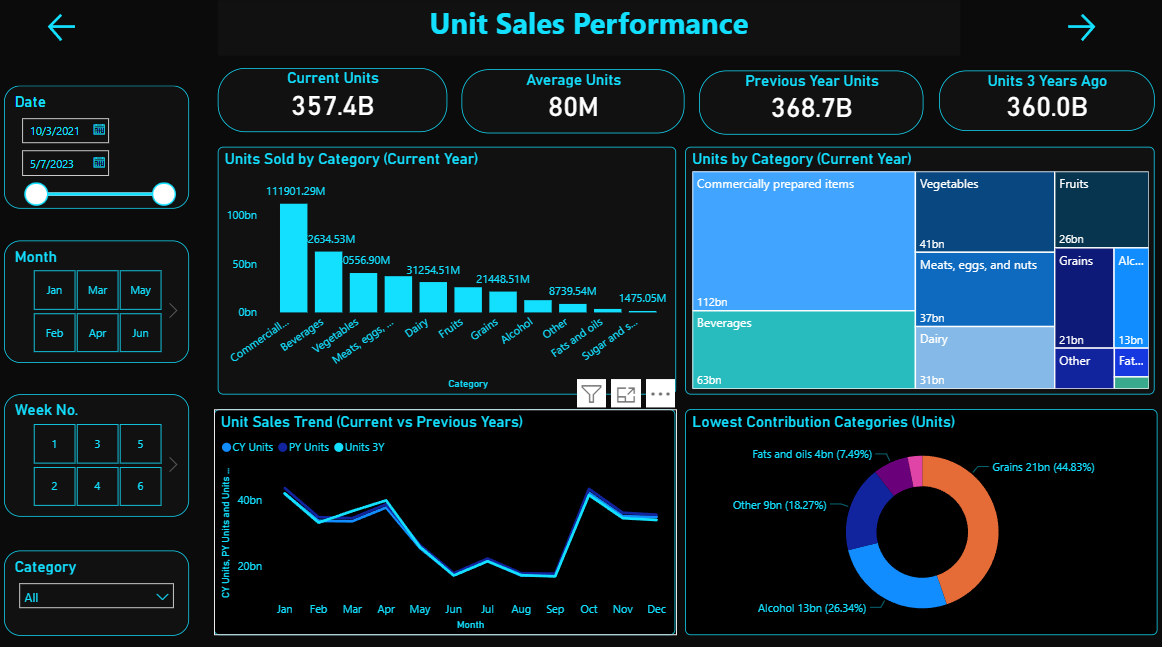

Layout of this report page (visuals, bound fields, positions):
{"tool":"powerbi","page":{"name":"Unit Performance","canvas":[1280,720],"ordinal":2},"visuals":[{"type":"card","title":"Units 3 Years Ago","fields":{"Values":["clean_data.Units 3Y Display"]},"box":[1031.7,79.6,236.7,66.7],"z":0},{"type":"treemap","title":"Units by Category (Current Year)","fields":{"Values":["clean_data.CY Units"],"Group":["clean_data.Category"]},"box":[753.3,163.3,515,271.7],"z":1000},{"type":"clusteredColumnChart","title":"Units Sold by Category (Current Year)","fields":{"Y":["clean_data.CY Units"],"Category":["clean_data.Category"]},"box":[240,163.3,503.3,271.7],"z":2000},{"type":"lineChart","title":"Unit Sales Trend (Current vs Previous Years)","fields":{"Category":["clean_data.Month"],"Y":["clean_data.CY Units","clean_data.PY Units","clean_data.Units 3Y"]},"box":[236.7,451.7,506.7,248.3],"z":3000},{"type":"donutChart","title":"Lowest Contribution Categories (Units)","fields":{"Category":["clean_data.Category"],"Y":["clean_data.CY Units"]},"box":[753.3,451.7,518.3,248.3],"z":4000},{"type":"slicer","title":"Date","fields":{"Values":["clean_data.Date"]},"box":[5.6,95.6,203.3,135.6],"z":5000},{"type":"card","title":"Current Units","fields":{"Values":["clean_data.CY Units Display"]},"box":[240,77.4,251.7,70],"z":6000},{"type":"card","title":"Average Units","fields":{"Values":["clean_data.Avg Units"]},"box":[507.8,78.5,245,70],"z":7000},{"type":"card","title":"Previous Year Units","fields":{"Values":["clean_data.PY Units Display"]},"box":[768.9,79.6,246.7,70],"z":8000},{"type":"textbox","box":[240,0,815,63.3],"z":9000},{"type":"slicer","title":"Month","fields":{"Values":["clean_data.Month"]},"box":[5.6,265.6,203.3,134.4],"z":10000},{"type":"slicer","title":"Week No.","fields":{"Values":["clean_data.WeekNo"]},"box":[5.6,434.4,203.3,134.4],"z":11000},{"type":"slicer","title":"Category","fields":{"Values":["clean_data.Category"]},"box":[5,606.7,203.3,93.3],"z":12000},{"type":"actionButton","box":[50,11.7,78.3,40],"z":13000},{"type":"actionButton","box":[1168.3,11.7,100,40],"z":14000}]}

Visuals, with their boxes in screenshot pixels (x1, y1, x2, y2), scaled from the page's 1280x720 canvas onto the 1162x647 screenshot:
"Units 3 Years Ago" card: rect(937, 72, 1151, 131)
"Units by Category (Current Year)" treemap: rect(684, 147, 1151, 391)
"Units Sold by Category (Current Year)" clusteredColumnChart: rect(218, 147, 675, 391)
"Unit Sales Trend (Current vs Previous Years)" lineChart: rect(215, 406, 675, 629)
"Lowest Contribution Categories (Units)" donutChart: rect(684, 406, 1154, 629)
"Date" slicer: rect(5, 86, 190, 208)
"Current Units" card: rect(218, 70, 446, 132)
"Average Units" card: rect(461, 71, 683, 133)
"Previous Year Units" card: rect(698, 72, 922, 134)
textbox: rect(218, 0, 958, 57)
"Month" slicer: rect(5, 239, 190, 359)
"Week No." slicer: rect(5, 390, 190, 511)
"Category" slicer: rect(5, 545, 189, 629)
actionButton: rect(45, 11, 116, 46)
actionButton: rect(1061, 11, 1151, 46)
